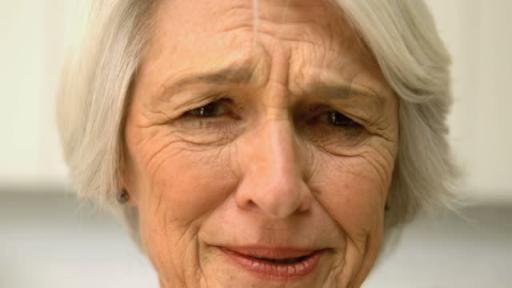left_eye: (307, 111, 369, 130)
left_lip_corner: (312, 243, 344, 259)
right_eye: (172, 102, 243, 123)
right_lip_corner: (198, 238, 235, 258)
